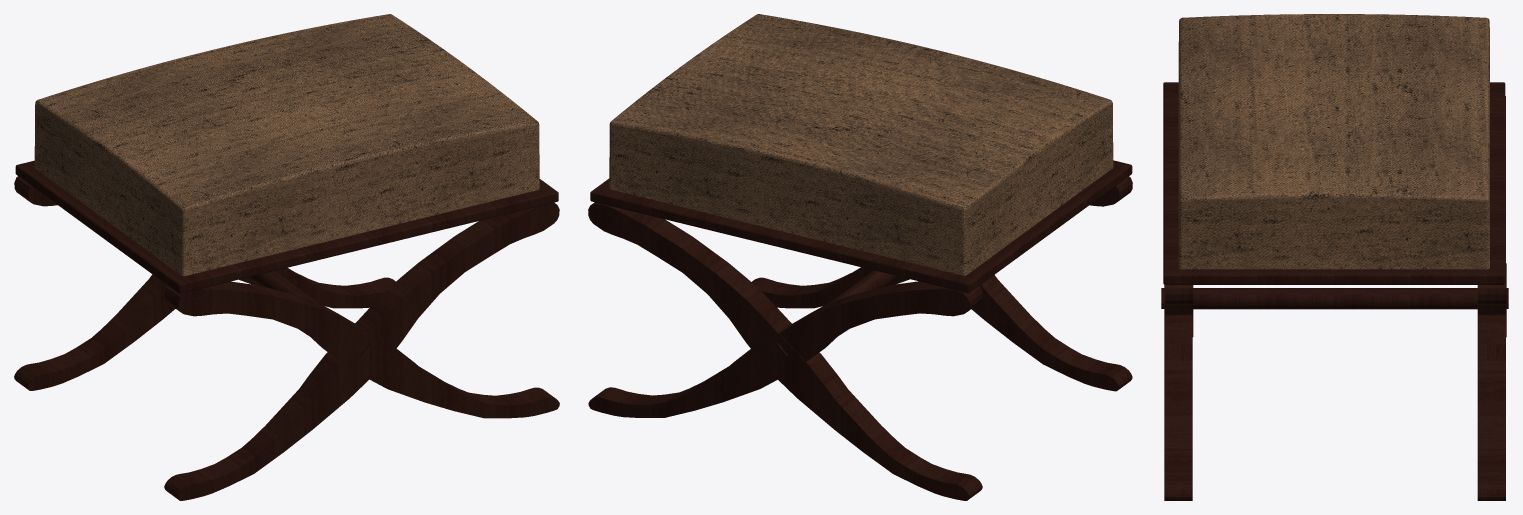
Rendered from helper_stool.obj.
The picture shows the model from 3 angles, left to right: view 1: azimuth 30°, elevation 25°; view 2: azimuth 150°, elevation 25°; view 3: azimuth 270°, elevation 25°; orthographic projection. The views are drawn at different scales.
Visible parts, largest first — view 1: pillow01, wooden01; view 2: pillow01, wooden01; view 3: pillow01, wooden01.
Boxes of the visible parts, x1,y1,x2,y2 form: pillow01: (34,14,539,276); wooden01: (14,160,559,500); pillow01: (609,14,1113,275); wooden01: (588,160,1132,500); pillow01: (1178,14,1489,269); wooden01: (1161,82,1508,500).
Bounding box in the file's own units: 60.06 × 44.71 × 45.36.
Materials: 2 (2 with a texture image).
